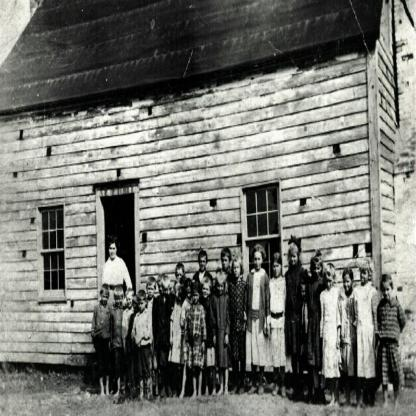face: (383, 283, 393, 300), (326, 274, 334, 290), (291, 250, 299, 266), (344, 276, 352, 291), (274, 263, 282, 277), (255, 255, 262, 270), (361, 270, 369, 283), (315, 264, 323, 277), (222, 256, 229, 270), (203, 285, 210, 298), (200, 258, 207, 271), (235, 264, 241, 278), (193, 293, 200, 305), (148, 286, 155, 298), (139, 299, 146, 311), (116, 295, 123, 307), (102, 293, 109, 305), (110, 246, 117, 258), (218, 282, 224, 295), (127, 296, 133, 308), (159, 284, 165, 295), (177, 272, 184, 281), (186, 289, 192, 298), (164, 286, 169, 295), (176, 290, 180, 299)
